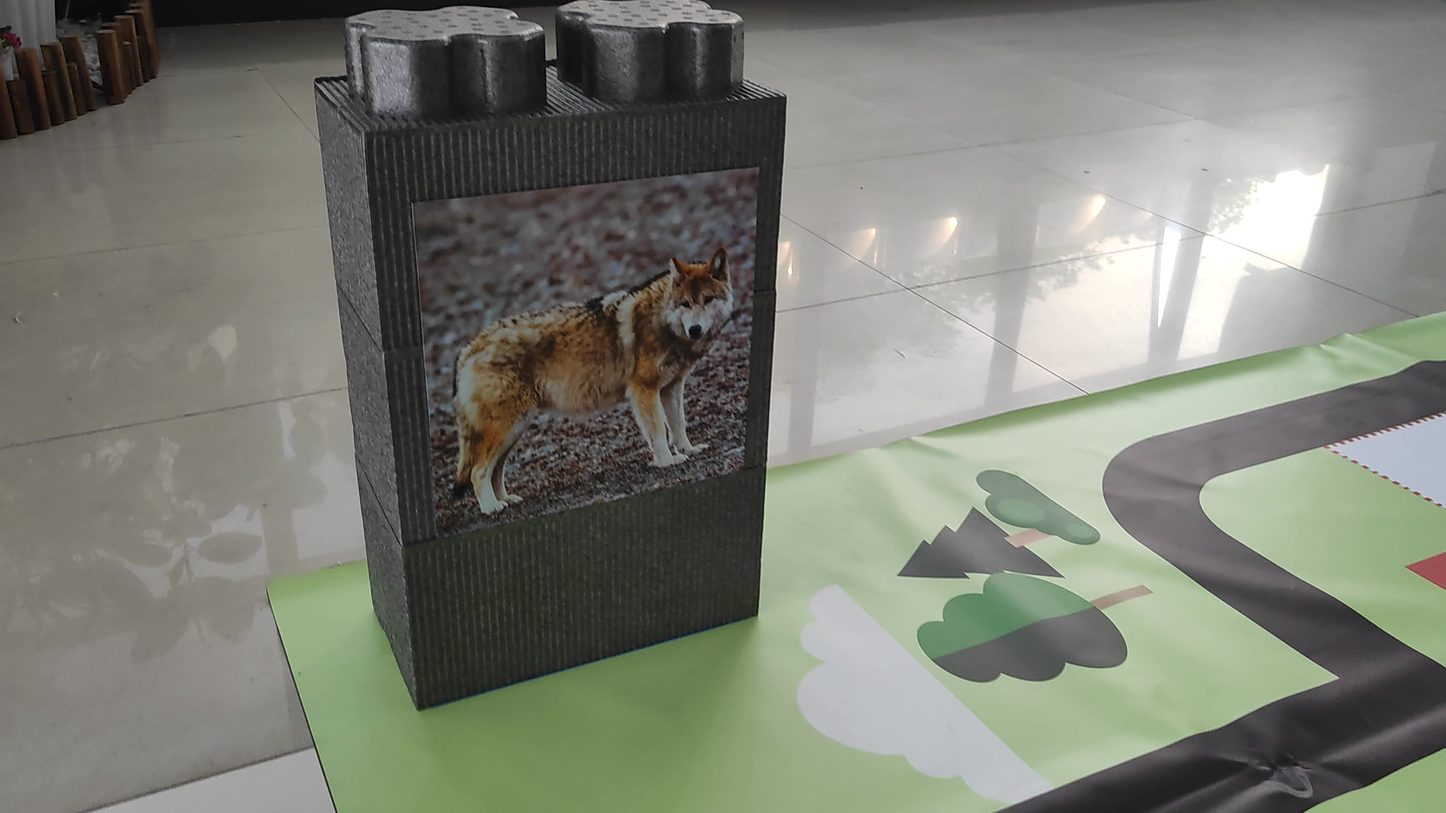wolf: (410, 234, 764, 533)
